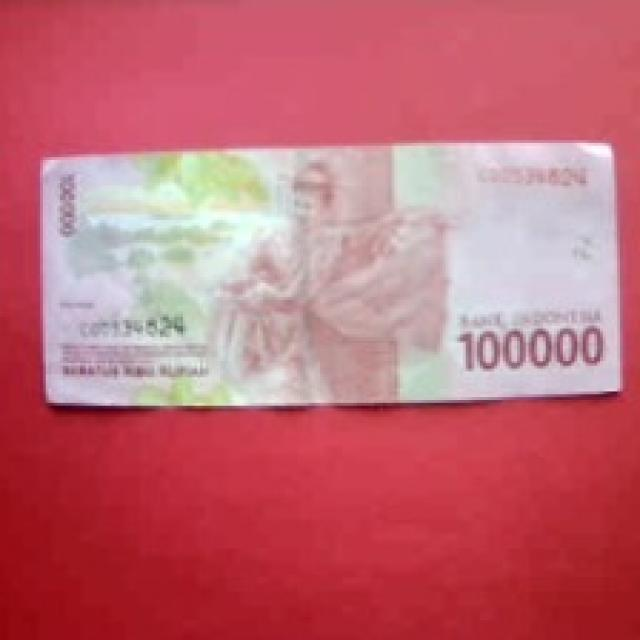lima puluh ribu rupiah: (14, 112, 640, 417)
